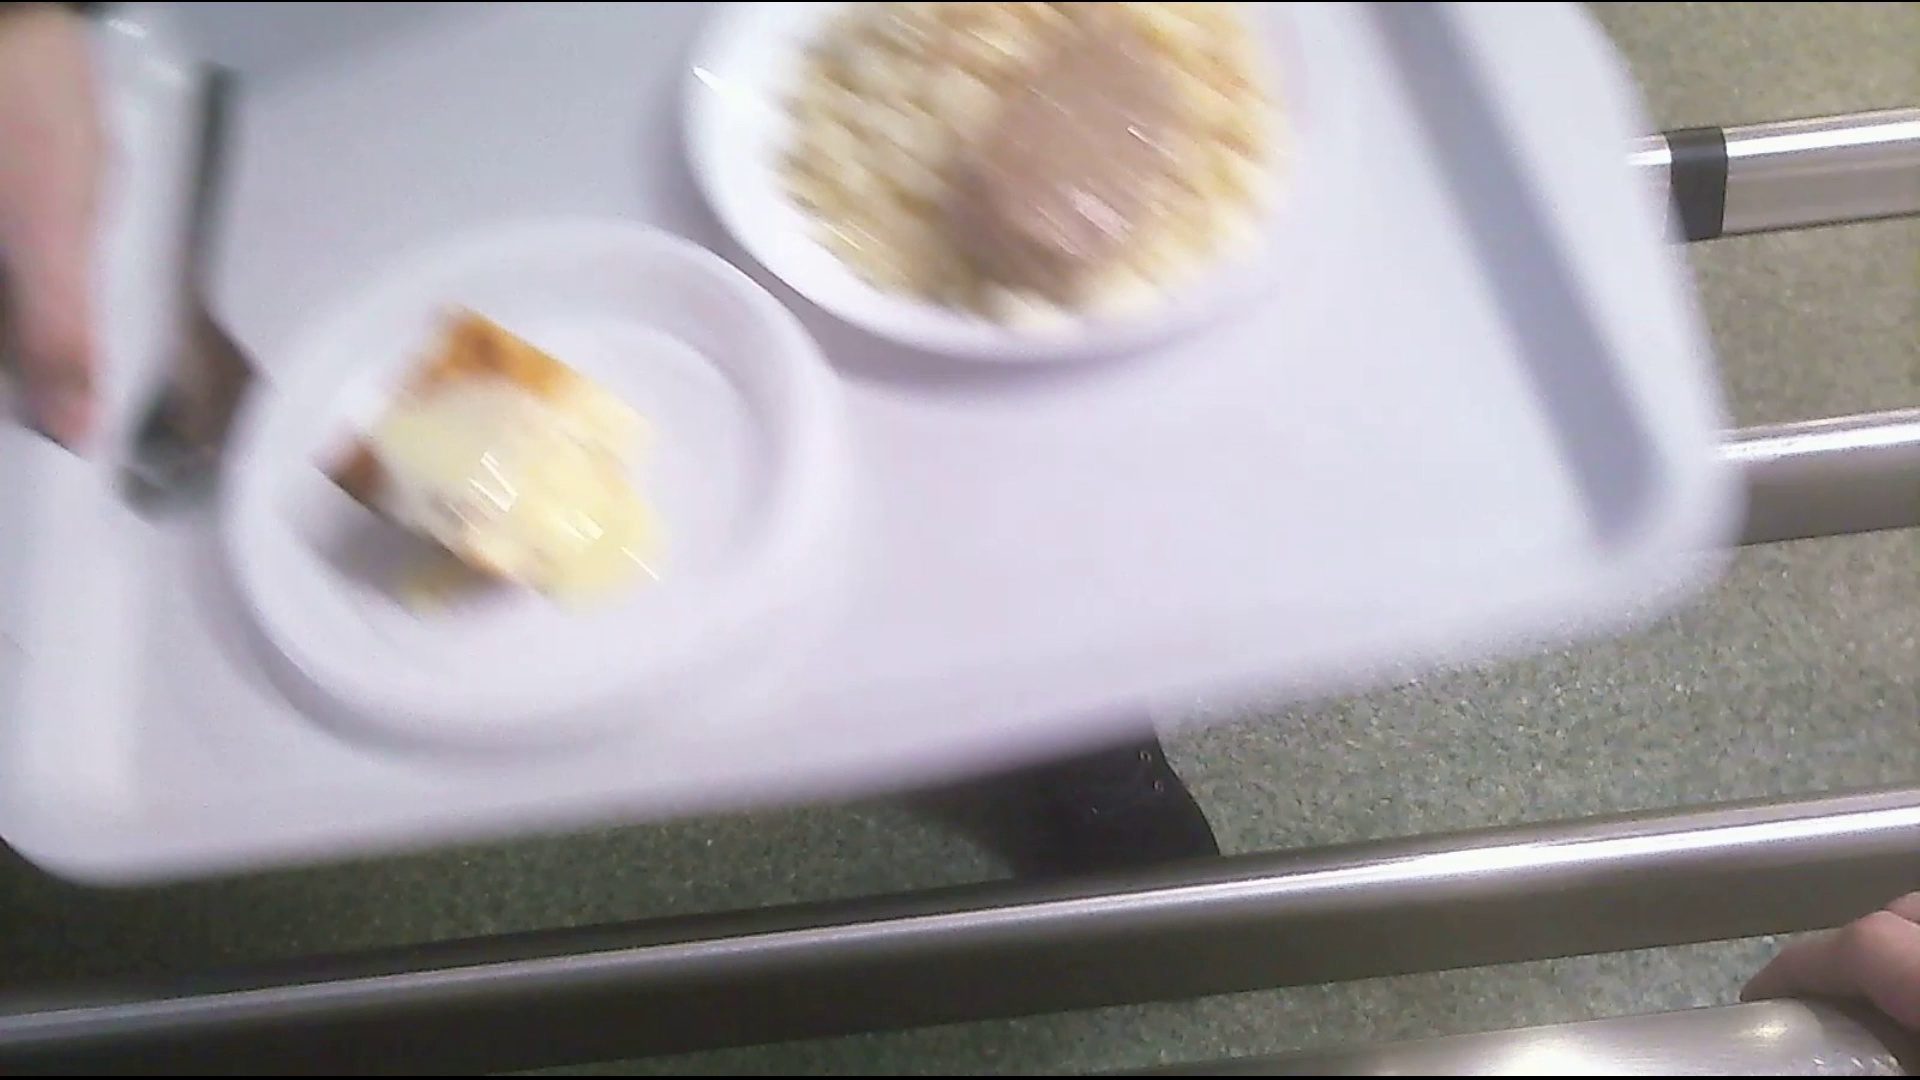cutlery: (123, 62, 270, 549)
plate: (219, 222, 827, 738), (684, 1, 1340, 365)
